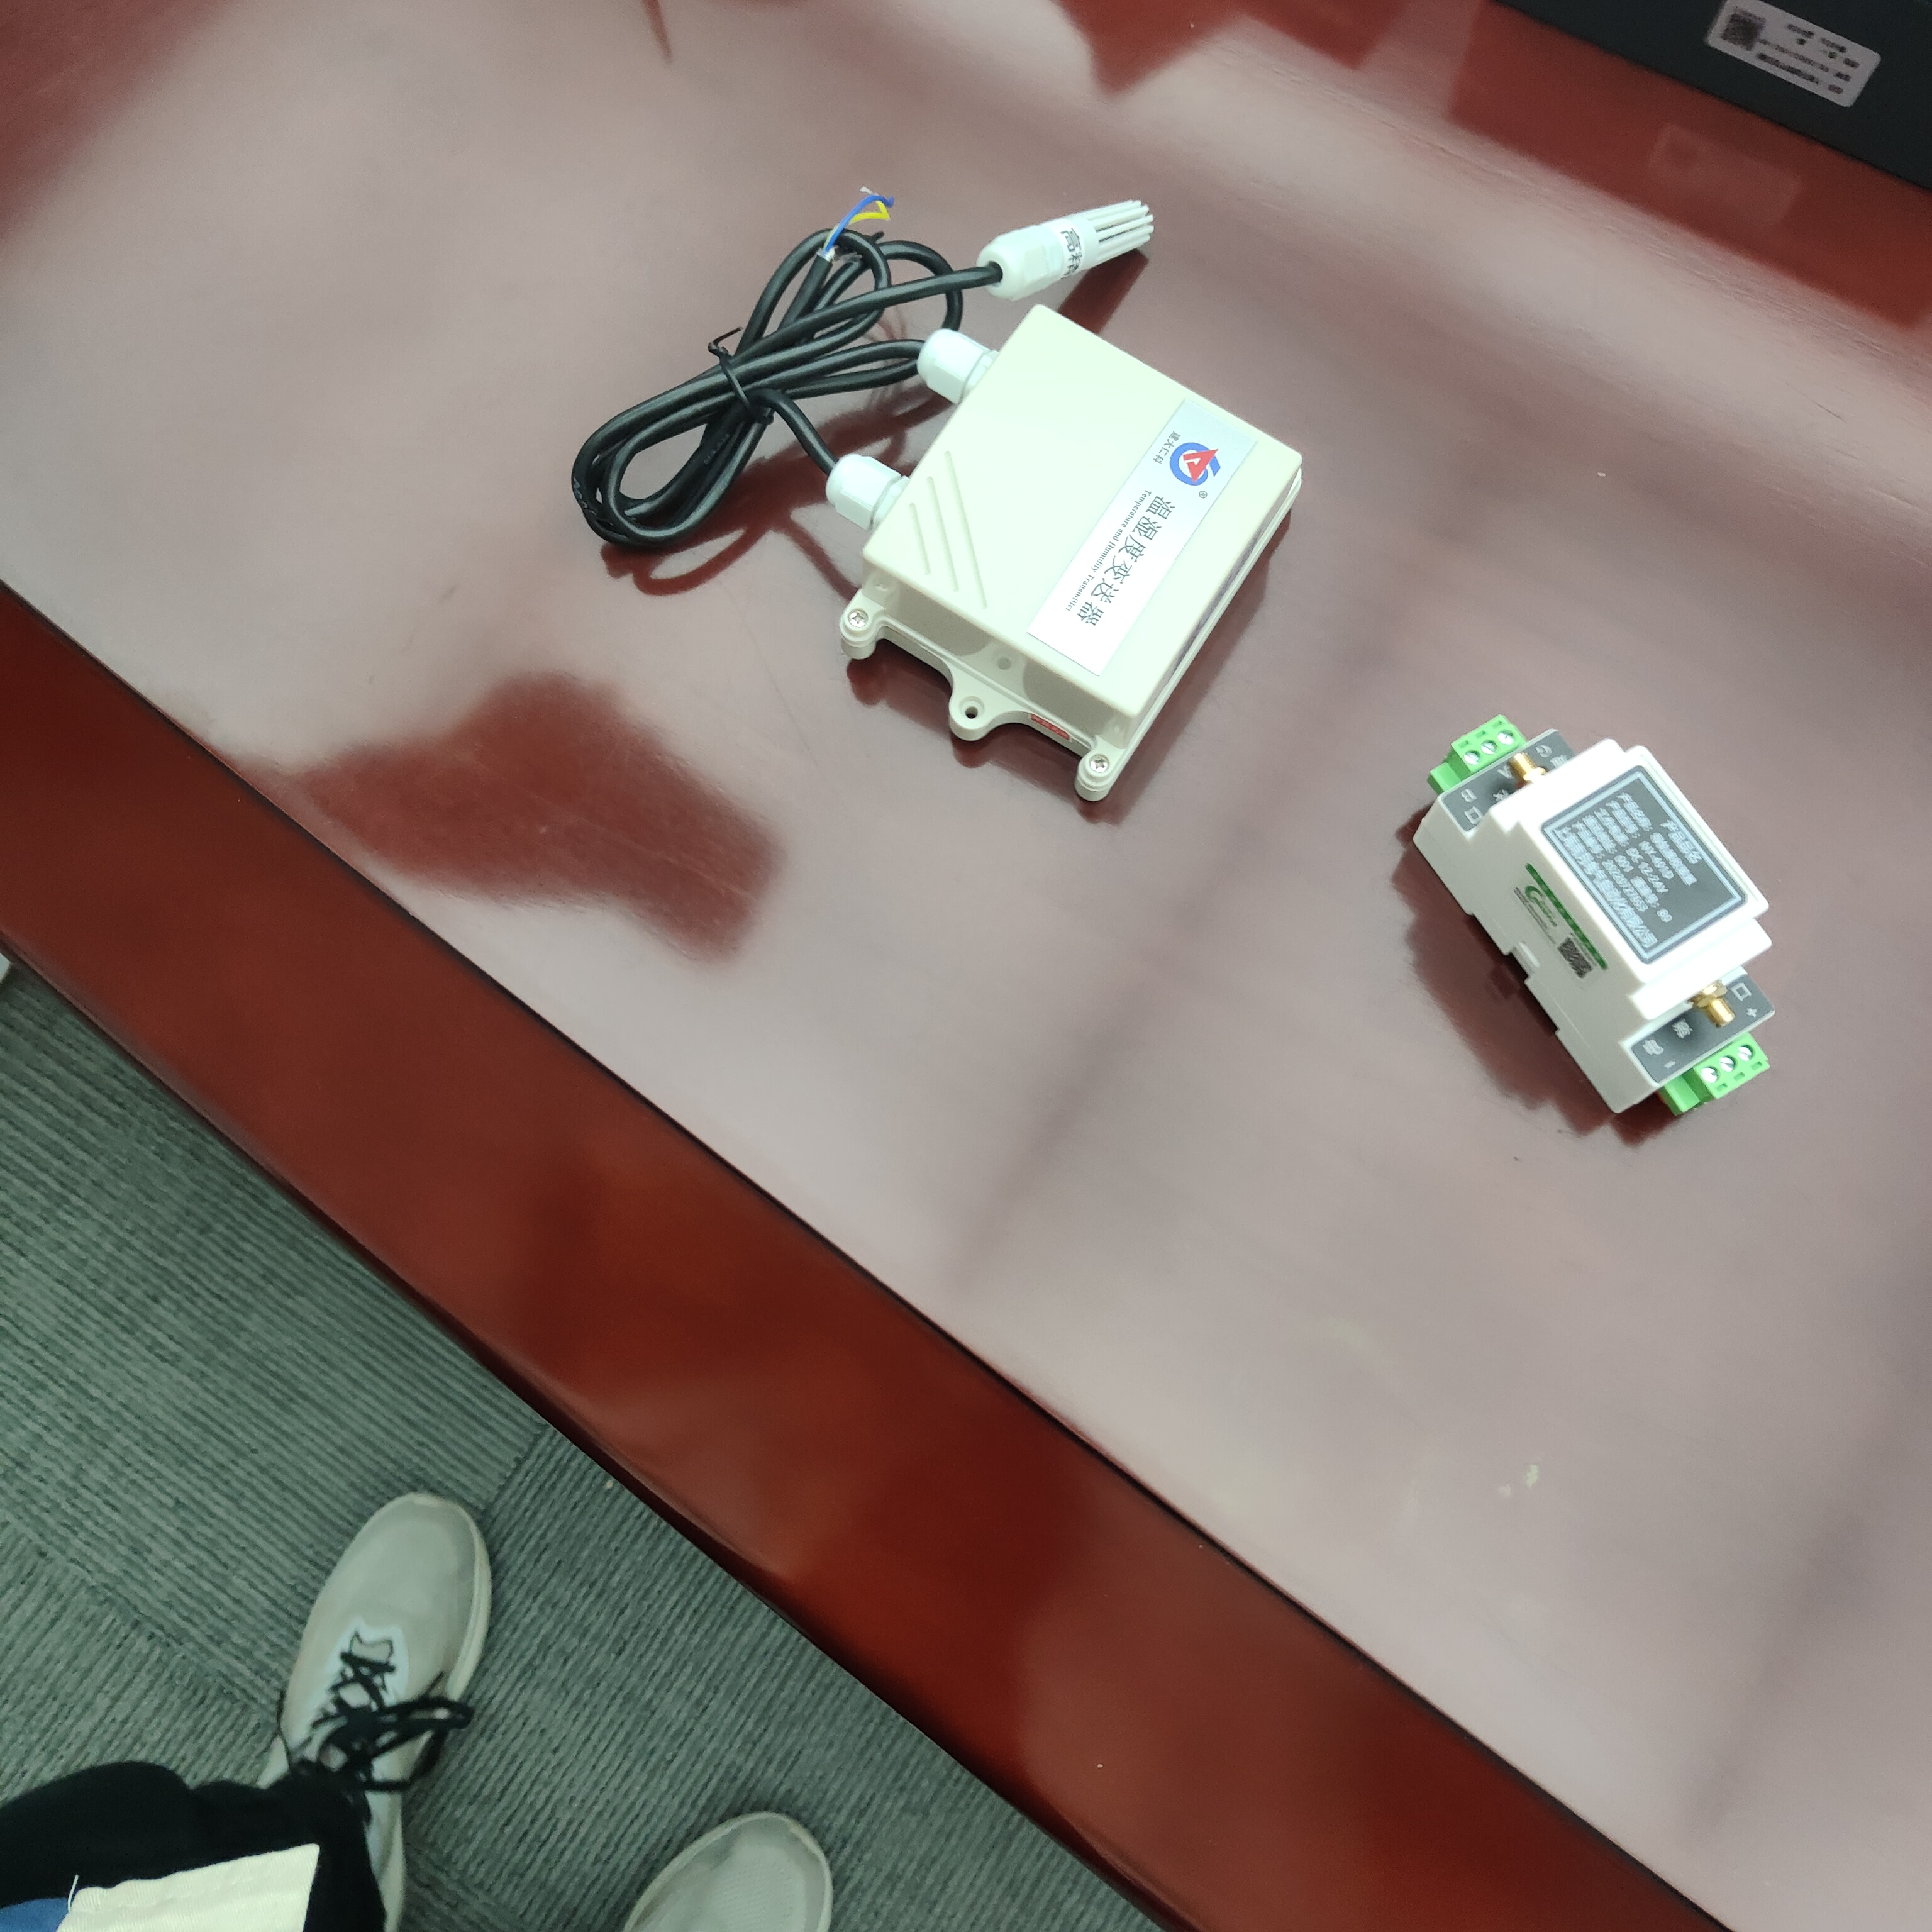dgjs: (1392, 694, 1803, 1148)
wsdbsq: (821, 280, 1330, 821)
